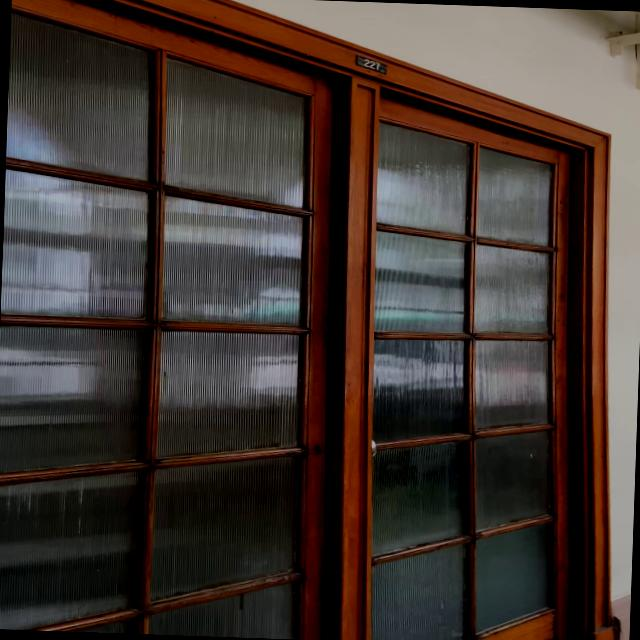room227: (350, 52, 390, 76)
